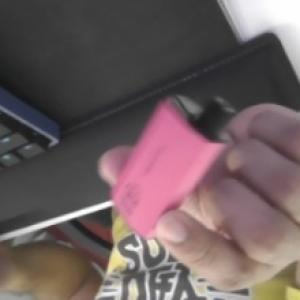Blume-E-Ciggirate: (108, 85, 241, 241)
